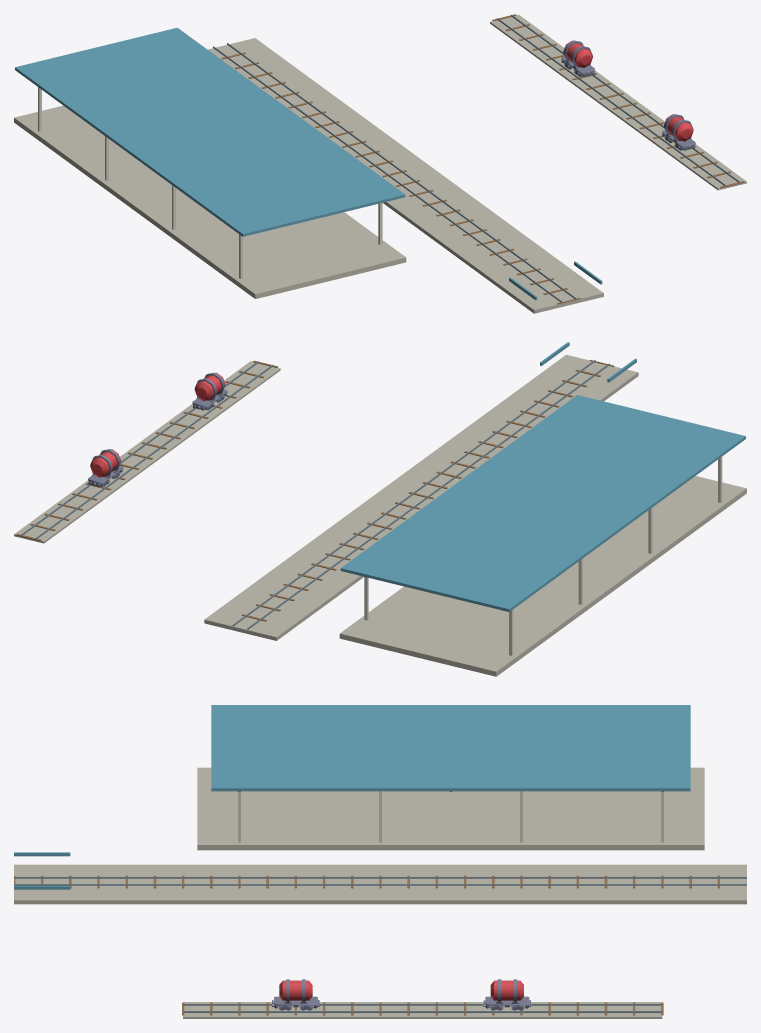
File: railway-1-0.glb
The picture shows the model from 3 angles, top to bottom: view 1: azimuth 30°, elevation 25°; view 2: azimuth 150°, elevation 25°; view 3: azimuth 270°, elevation 25°; orthographic projection. The views are drawn at different scales.
Parts seen in each view (by area): view 1: railway-1-0; view 2: railway-1-0; view 3: railway-1-0.
Part boxes in pixels (box(x1,y1,x2,y2)): railway-1-0: box(14, 14, 746, 313); railway-1-0: box(14, 342, 746, 676); railway-1-0: box(14, 705, 746, 1018).
Size of the model in its own units: 84.5 by 10.12 by 104.
11 materials, 6 textured.
